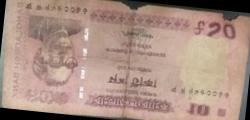10 taka: (7, 2, 240, 120)
